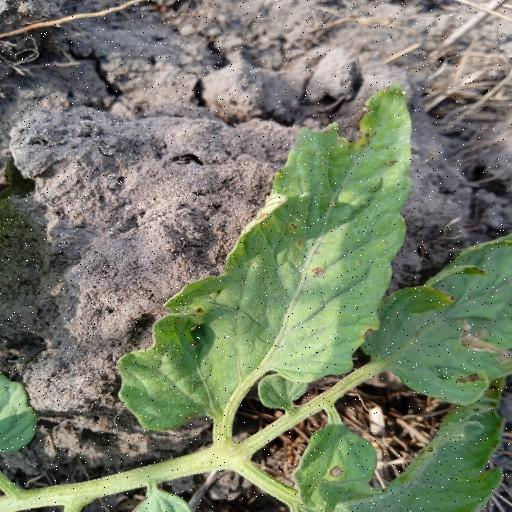Tomato_Mildiou: (114, 82, 424, 432)
